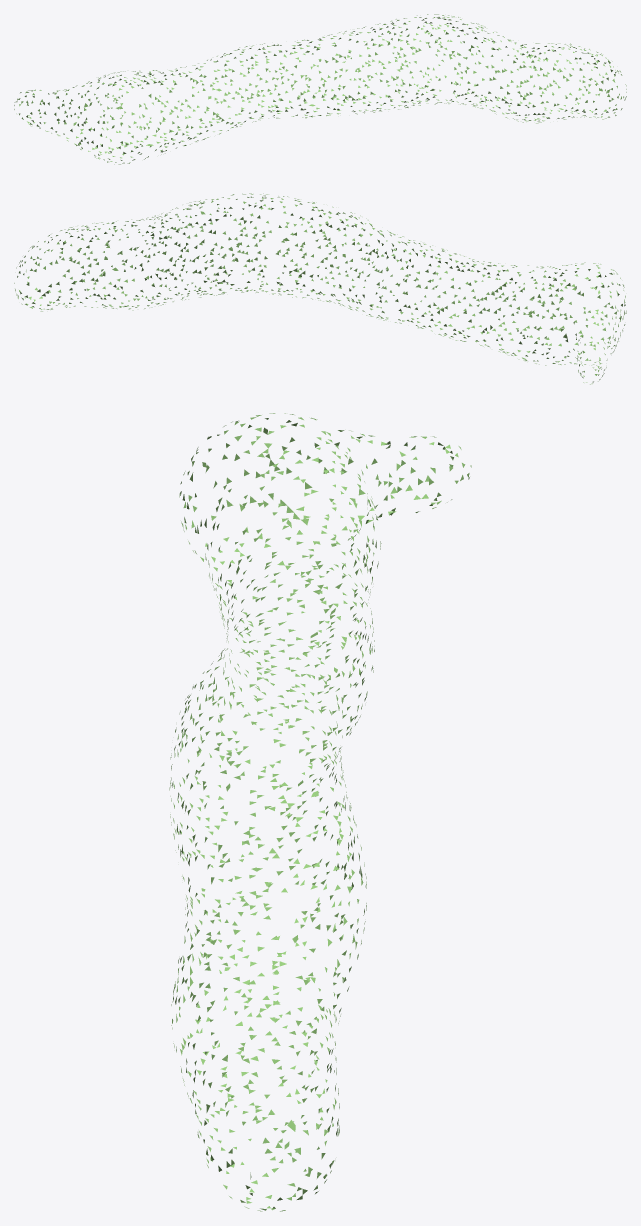
The model's file is morph_014.glb.
3 views of the same model, one above another, from view 1: azimuth 30°, elevation 25°; view 2: azimuth 150°, elevation 25°; view 3: azimuth 270°, elevation 25° (orthographic). The views are drawn at different scales.
Size of the model in its own units: 125 by 33.09 by 28.99.
